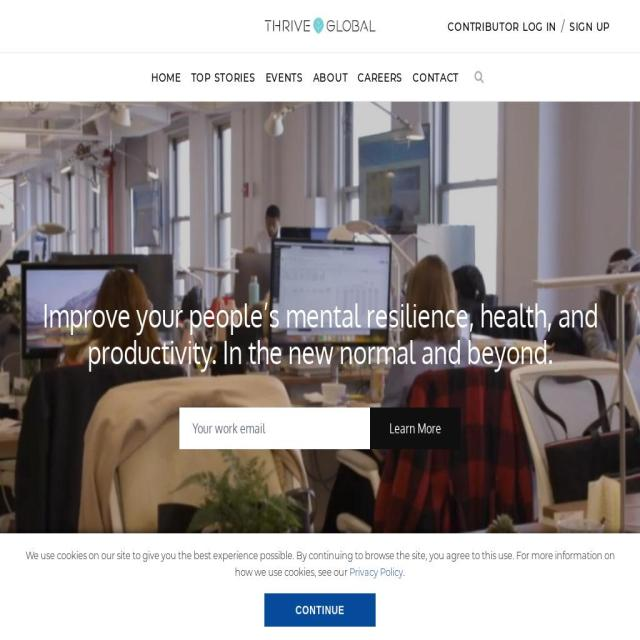button: (264, 593, 376, 627), (442, 16, 562, 36), (264, 18, 376, 34), (464, 53, 494, 101), (564, 16, 615, 36)
field: (179, 407, 370, 449), (370, 407, 461, 449)
heading: (42, 294, 598, 372), (222, 331, 553, 372)
image: (0, 0, 512, 535), (264, 18, 376, 34), (474, 71, 484, 83)
link: (190, 70, 256, 85), (412, 70, 460, 85), (349, 565, 403, 578), (358, 70, 403, 85), (265, 70, 303, 85), (312, 70, 348, 85), (151, 70, 181, 85)
text: (25, 548, 615, 578), (561, 18, 565, 34), (403, 565, 405, 578)
